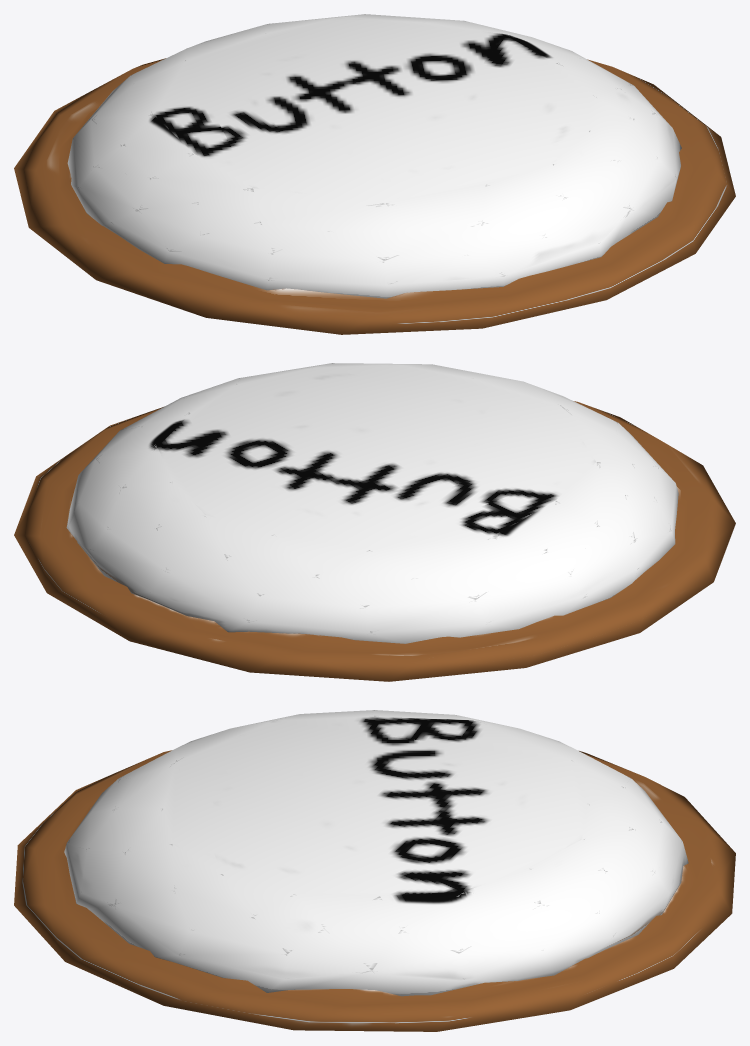
File: button.glb
The picture shows the model from 3 angles, top to bottom: view 1: azimuth 30°, elevation 25°; view 2: azimuth 150°, elevation 25°; view 3: azimuth 270°, elevation 25°; orthographic projection.
Visible parts, largest first — view 1: button; view 2: button; view 3: button.
Part boxes in pixels (box(x1,y1,x2,y2)): button: box(14, 14, 735, 334); button: box(14, 363, 735, 681); button: box(14, 710, 735, 1031).
Bounding box in the file's own units: 1.97 × 0.2218 × 1.97.
Materials: 1 (1 with a texture image).
